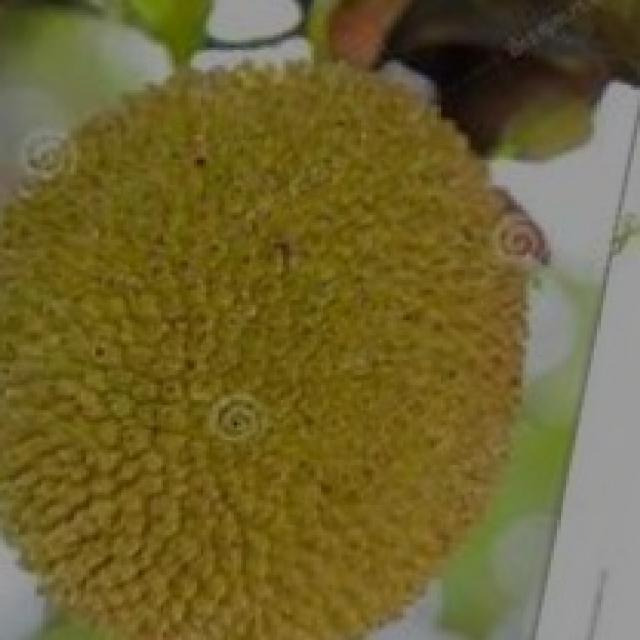Fruit: (0, 272, 385, 640), (222, 2, 628, 342)
